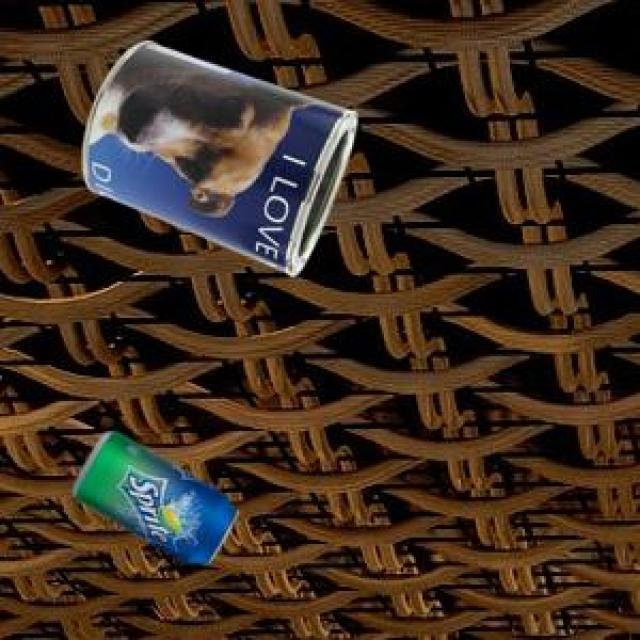logam: (80, 37, 353, 274), (69, 428, 236, 562)
